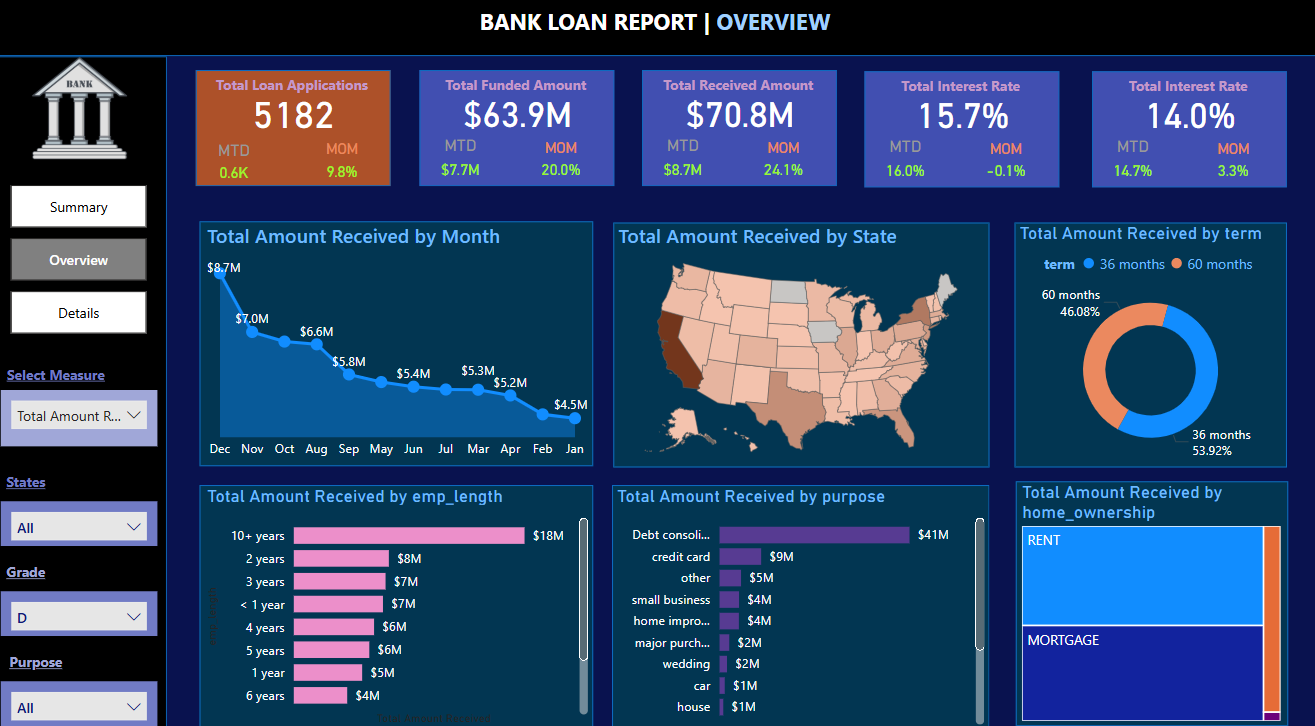

The dashboard page shown, as its layout file describes it:
{"tool":"powerbi","page":{"name":"Overview","canvas":[1280,720],"ordinal":1},"visuals":[{"type":"shape","box":[0,59.1,168.9,661.1],"z":0},{"type":"shape","box":[197.1,72.4,188.1,112.2],"z":0,"group":"g1"},{"type":"shape","box":[412.7,72.4,188.1,112.2],"z":0,"group":"g2"},{"type":"shape","box":[627.4,72.4,188.1,112.2],"z":0,"group":"g3"},{"type":"shape","box":[842.2,73.6,188.1,112.2],"z":0,"group":"g4"},{"type":"shape","box":[1061.8,73.6,188.1,112.2],"z":0,"group":"g5"},{"type":"shape","box":[0,0,1280,59],"z":1000},{"type":"card","fields":{"Values":["Bank_loan_data.Total_id"]},"box":[195.4,89.8,190.6,47.1],"z":1000,"group":"g1"},{"type":"card","fields":{"Values":["Bank_loan_data.Total Funded Amount"]},"box":[412.5,89.8,189.4,47.1],"z":1000,"group":"g2"},{"type":"card","fields":{"Values":["Bank_loan_data.Total Amount Received"]},"box":[627.2,89.8,189.4,47.1],"z":1000,"group":"g3"},{"type":"card","fields":{"Values":["Bank_loan_data.AVG Interest Rate"]},"box":[842,91,189.4,47.1],"z":1000,"group":"g4"},{"type":"card","fields":{"Values":["Bank_loan_data.AVG DTI"]},"box":[1061.6,91,189.4,47.1],"z":1000,"group":"g5"},{"type":"textbox","box":[195.9,72.4,188.1,31.4],"z":2000,"group":"g1"},{"type":"textbox","box":[411.4,72.4,188.1,31.4],"z":2000,"group":"g2"},{"type":"textbox","box":[626.1,72.4,188.1,31.4],"z":2000,"group":"g3"},{"type":"textbox","box":[840.9,73.6,188.1,31.4],"z":2000,"group":"g4"},{"type":"textbox","box":[1060.5,73.6,188.1,31.4],"z":2000,"group":"g5"},{"type":"textbox","box":[0,456,65.1,32.6],"z":2000},{"type":"textbox","box":[0,6,1280,53.1],"z":3000},{"type":"card","title":"MTD","fields":{"Values":["Bank_loan_data.MTD Funded Amount"]},"box":[416.4,136.9,71.2,49.5],"z":3000,"group":"g2"},{"type":"card","title":"MTD","fields":{"Values":["Bank_loan_data.MTD Received Amount"]},"box":[631.1,136.9,71.2,49.5],"z":3000,"group":"g3"},{"type":"card","title":"MTD","fields":{"Values":["Bank_loan_data.MTD AVG interest Rate"]},"box":[845.9,138.1,71.2,49.5],"z":3000,"group":"g4"},{"type":"card","title":"MTD","fields":{"Values":["Bank_loan_data.MTD avg DTI"]},"box":[1065.5,138.1,71.2,49.5],"z":3000,"group":"g5"},{"type":"card","title":"MTD","fields":{"Values":["Bank_loan_data.MTD Loan Applications"]},"box":[200.2,141.7,66.4,43.4],"z":3000,"group":"g1"},{"type":"group","id":"g1","title":"Group 1","box":[195.4,72.4,190.6,113.4],"z":4000},{"type":"card","title":"MOM","fields":{"Values":["Bank_loan_data.MOM Funded Amount"]},"box":[508.8,139.3,79.6,43.4],"z":4000,"group":"g2"},{"type":"card","title":"MOM","fields":{"Values":["Bank_loan_data.MOM Received Amount"]},"box":[723.5,139.3,79.6,43.4],"z":4000,"group":"g3"},{"type":"card","title":"MOM","fields":{"Values":["Bank_loan_data.MoM Loan Application"]},"box":[304.9,140.2,65.1,42.2],"z":4000,"group":"g1"},{"type":"card","title":"MOM","fields":{"Values":["Bank_loan_data.MOM Avg Int Rate"]},"box":[938.3,140.5,79.6,43.4],"z":4000,"group":"g4"},{"type":"card","title":"MOM","fields":{"Values":["Bank_loan_data.MOM AVG DTI"]},"box":[1157.9,140.5,79.6,43.4],"z":4000,"group":"g5"},{"type":"group","id":"g2","title":"Group 1","box":[411.4,72.4,190.6,113.4],"z":5000},{"type":"group","id":"g3","title":"Group 1","box":[626.1,72.4,190.6,114.6],"z":6000},{"type":"group","id":"g4","title":"Group 1","box":[840.9,73.6,190.6,113.4],"z":7000},{"type":"group","id":"g5","title":"Group 1","box":[1060.5,73.6,190.6,113.4],"z":8000},{"type":"slicer","fields":{"Values":["Bank_loan_data.address_state"]},"box":[8.4,488.6,150.8,43.4],"z":9000},{"type":"slicer","fields":{"Values":["Bank_loan_data.purpose"]},"box":[8.4,662.3,150.8,43.4],"z":10000},{"type":"shape","box":[200.3,218.4,380,236.5],"z":11000},{"type":"slicer","fields":{"Values":["Bank_loan_data.grade"]},"box":[8.4,575.5,150.8,43.4],"z":12000},{"type":"textbox","box":[0,629.8,84.5,32.6],"z":13000},{"type":"textbox","box":[0,542.9,65.1,32.6],"z":14000},{"type":"lineChart","fields":{"Y":["Bank_loan_data.Total Amount Received"],"Category":["Date Table.Month"]},"box":[202.7,219.6,377.6,236.5],"z":15000},{"type":"slicer","fields":{"Values":["Select Measure.Select Measure"]},"box":[8.4,381.2,150.8,54.3],"z":16000},{"type":"textbox","box":[0,352.3,123.1,32.6],"z":17000},{"type":"shape","box":[599.6,219.6,363.1,236.5],"z":18000},{"type":"shapeMap","fields":{"Value":["Bank_loan_data.Total Amount Received"],"Category":["Bank_loan_data.address_state"]},"box":[599.6,219.6,363.1,236.5],"z":19000},{"type":"shape","box":[986.9,219.6,263,236.5],"z":20000},{"type":"donutChart","fields":{"Y":["Bank_loan_data.Total Amount Received"],"Category":["Bank_loan_data.term"]},"box":[986.9,219.6,263,236.5],"z":21000},{"type":"shape","box":[200.3,472.9,380,236.5],"z":22000},{"type":"shape","box":[598.4,472.9,364.3,236.5],"z":23000},{"type":"barChart","fields":{"Y":["Bank_loan_data.Total Amount Received"],"Category":["Bank_loan_data.emp_length"]},"box":[202.7,472.9,377.6,236.5],"z":24000},{"type":"barChart","fields":{"Y":["Bank_loan_data.Total Amount Received"],"Category":["Bank_loan_data.purpose"]},"box":[598.4,472.9,364.3,236.5],"z":25000},{"type":"shape","box":[988.1,469.3,263,236.5],"z":26000},{"type":"treemap","fields":{"Values":["Bank_loan_data.Total Amount Received"],"Group":["Bank_loan_data.home_ownership"]},"box":[989.3,469.3,259.4,236.5],"z":27000},{"type":"pageNavigator","box":[18.3,183.2,131.9,144.1],"z":28000},{"type":"image","box":[14.5,35,139.9,148.4],"z":29000}]}

Visuals, with their boxes in screenshot pixels (x1, y1, x2, y2), scaled from the page's 1280x720 canvas onto the 1315x726 screenshot:
shape: left=0, top=60, right=174, bottom=725
shape: left=202, top=73, right=396, bottom=186
shape: left=424, top=73, right=617, bottom=186
shape: left=645, top=73, right=838, bottom=186
shape: left=865, top=74, right=1058, bottom=187
shape: left=1091, top=74, right=1284, bottom=187
shape: left=0, top=0, right=1314, bottom=59
card - Bank_loan_data.Total_id: left=201, top=91, right=397, bottom=138
card - Bank_loan_data.Total Funded Amount: left=424, top=91, right=618, bottom=138
card - Bank_loan_data.Total Amount Received: left=644, top=91, right=839, bottom=138
card - Bank_loan_data.AVG Interest Rate: left=865, top=92, right=1060, bottom=139
card - Bank_loan_data.AVG DTI: left=1091, top=92, right=1285, bottom=139
textbox: left=201, top=73, right=394, bottom=105
textbox: left=423, top=73, right=616, bottom=105
textbox: left=643, top=73, right=836, bottom=105
textbox: left=864, top=74, right=1057, bottom=106
textbox: left=1089, top=74, right=1283, bottom=106
textbox: left=0, top=460, right=67, bottom=493
textbox: left=0, top=6, right=1314, bottom=60
"MTD" card: left=428, top=138, right=501, bottom=188
"MTD" card: left=648, top=138, right=722, bottom=188
"MTD" card: left=869, top=139, right=942, bottom=189
"MTD" card: left=1095, top=139, right=1168, bottom=189
"MTD" card: left=206, top=143, right=274, bottom=187
"Group 1" group: left=201, top=73, right=397, bottom=187
"MOM" card: left=523, top=140, right=604, bottom=184
"MOM" card: left=743, top=140, right=825, bottom=184
"MOM" card: left=313, top=141, right=380, bottom=184
"MOM" card: left=964, top=142, right=1046, bottom=185
"MOM" card: left=1190, top=142, right=1271, bottom=185
"Group 1" group: left=423, top=73, right=618, bottom=187
"Group 1" group: left=643, top=73, right=839, bottom=189
"Group 1" group: left=864, top=74, right=1060, bottom=189
"Group 1" group: left=1089, top=74, right=1285, bottom=189
slicer - Bank_loan_data.address_state: left=9, top=493, right=164, bottom=536
slicer - Bank_loan_data.purpose: left=9, top=668, right=164, bottom=712
shape: left=206, top=220, right=596, bottom=459
slicer - Bank_loan_data.grade: left=9, top=580, right=164, bottom=624
textbox: left=0, top=635, right=87, bottom=668
textbox: left=0, top=547, right=67, bottom=580
lineChart - Bank_loan_data.Total Amount Received x Date Table.Month: left=208, top=221, right=596, bottom=460
slicer - Select Measure.Select Measure: left=9, top=384, right=164, bottom=439
textbox: left=0, top=355, right=126, bottom=388
shape: left=616, top=221, right=989, bottom=460
shapeMap - Bank_loan_data.Total Amount Received x Bank_loan_data.address_state: left=616, top=221, right=989, bottom=460
shape: left=1014, top=221, right=1284, bottom=460
donutChart - Bank_loan_data.Total Amount Received x Bank_loan_data.term: left=1014, top=221, right=1284, bottom=460
shape: left=206, top=477, right=596, bottom=715
shape: left=615, top=477, right=989, bottom=715
barChart - Bank_loan_data.Total Amount Received x Bank_loan_data.emp_length: left=208, top=477, right=596, bottom=715
barChart - Bank_loan_data.Total Amount Received x Bank_loan_data.purpose: left=615, top=477, right=989, bottom=715
shape: left=1015, top=473, right=1285, bottom=712
treemap - Bank_loan_data.Total Amount Received x Bank_loan_data.home_ownership: left=1016, top=473, right=1283, bottom=712
pageNavigator: left=19, top=185, right=154, bottom=330
image: left=15, top=35, right=159, bottom=185
